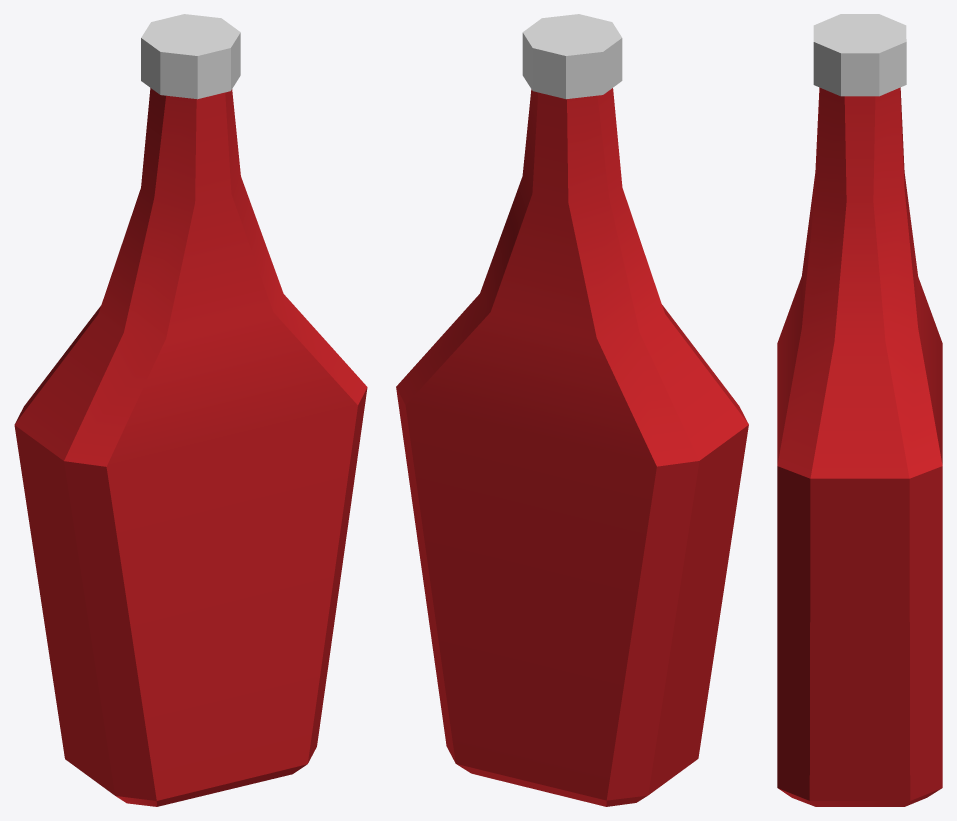
File: Ketchup.fbx
The picture shows the model from 3 angles, left to right: view 1: azimuth 30°, elevation 25°; view 2: azimuth 150°, elevation 25°; view 3: azimuth 270°, elevation 25°; orthographic projection.
Parts seen in each view (by area): view 1: Catshop; view 2: Catshop; view 3: Catshop.
Part boxes in pixels (bbox=[...]): Catshop: bbox=[14, 14, 367, 806]; Catshop: bbox=[396, 14, 748, 806]; Catshop: bbox=[777, 14, 942, 806].
Bounding box in the file's own units: 3.9 × 8.98 × 1.84.
